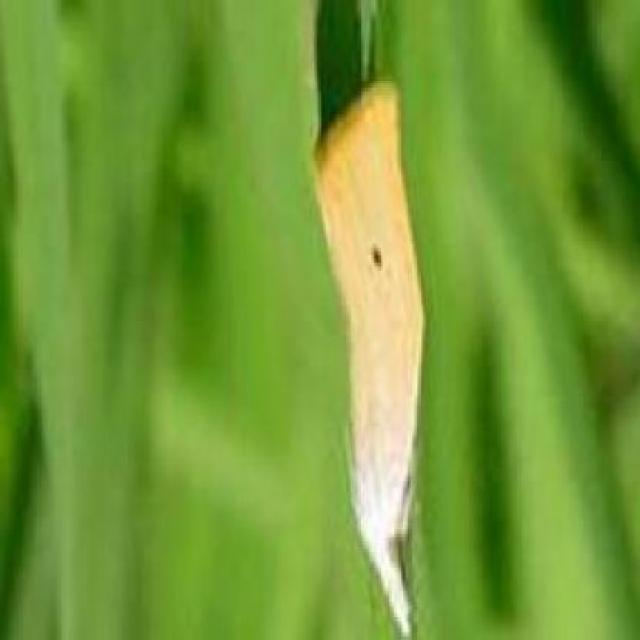stem-borer: (308, 72, 426, 640)
